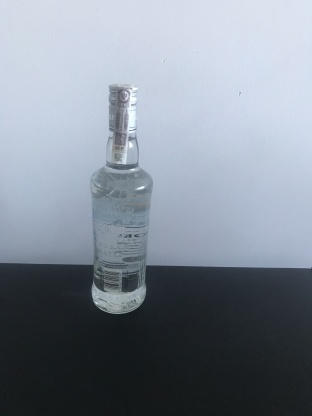nakretka: (105, 79, 140, 137)
